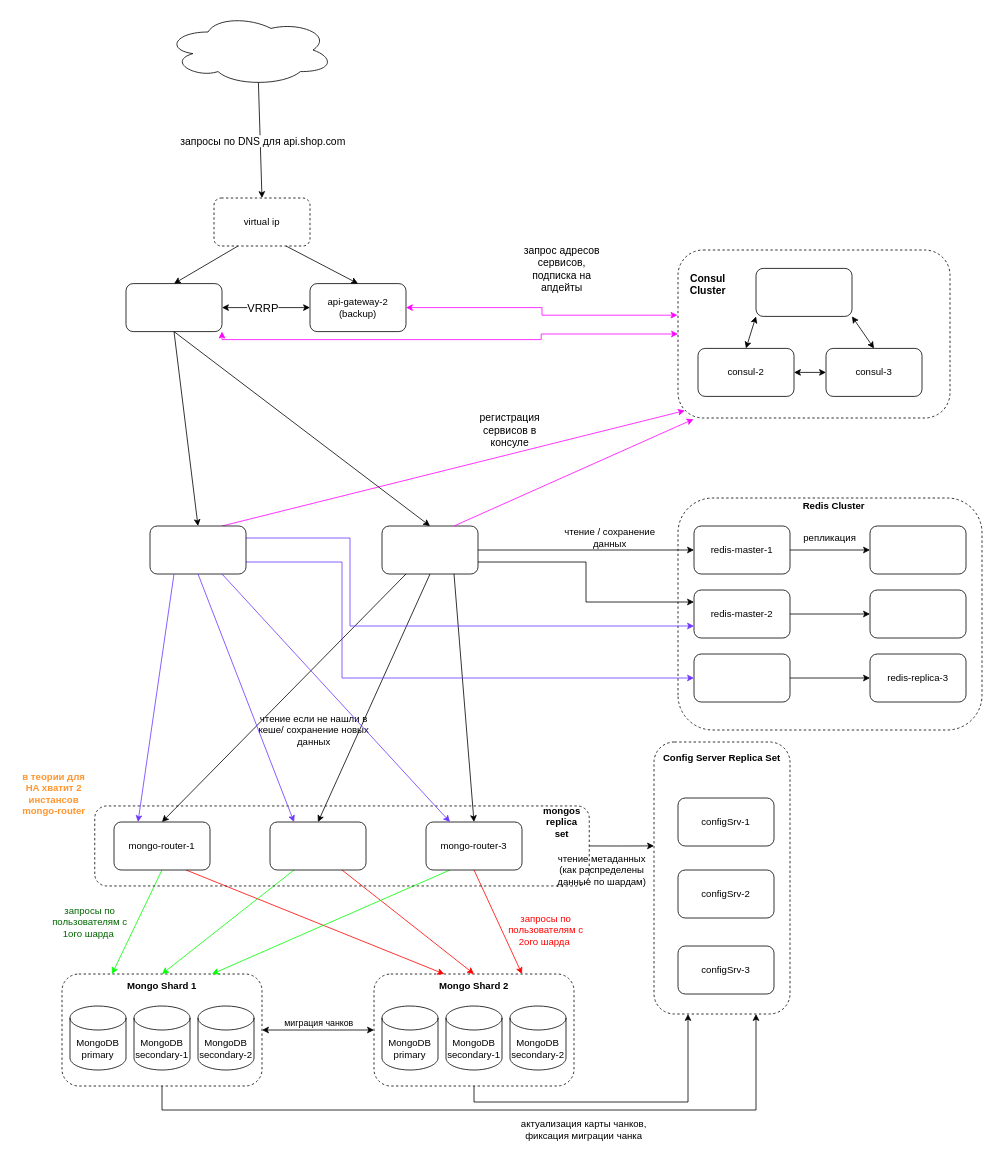
The diagram is 996 pixels wide and 1164 high, and some of its shapes have lost their labels. The centre of each missing label's shape, as x and y in pixels:
api-gateway-1 (master): point 173,307
consul-1: point 803,292
interntet: point 249,49
mongo-router-2: point 317,845
pymongo-api-1: point 197,549
pymongo-api-2: point 429,549
redis-master-3: point 741,677
redis-replica-1: point 917,549
redis-replica-2: point 917,613
